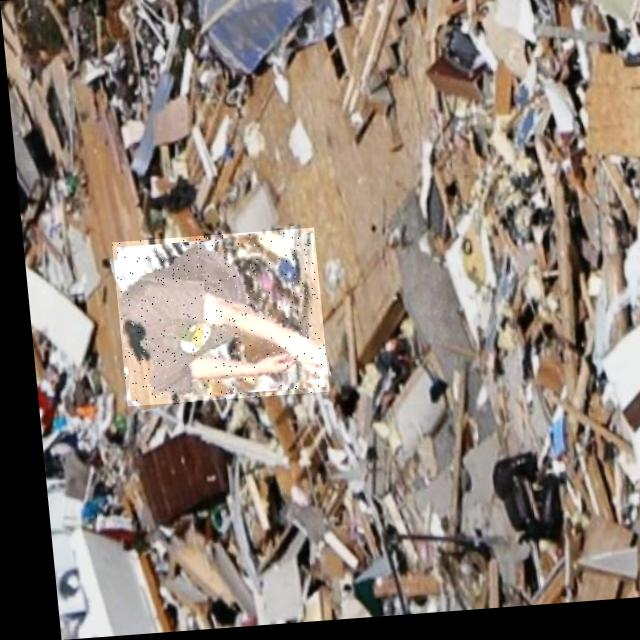Person in Rubble: (107, 231, 321, 407)
